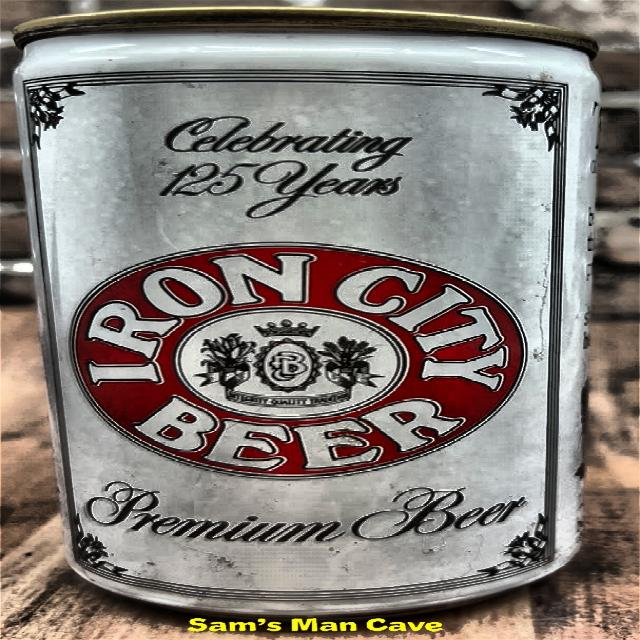can: (0, 3, 605, 622)
